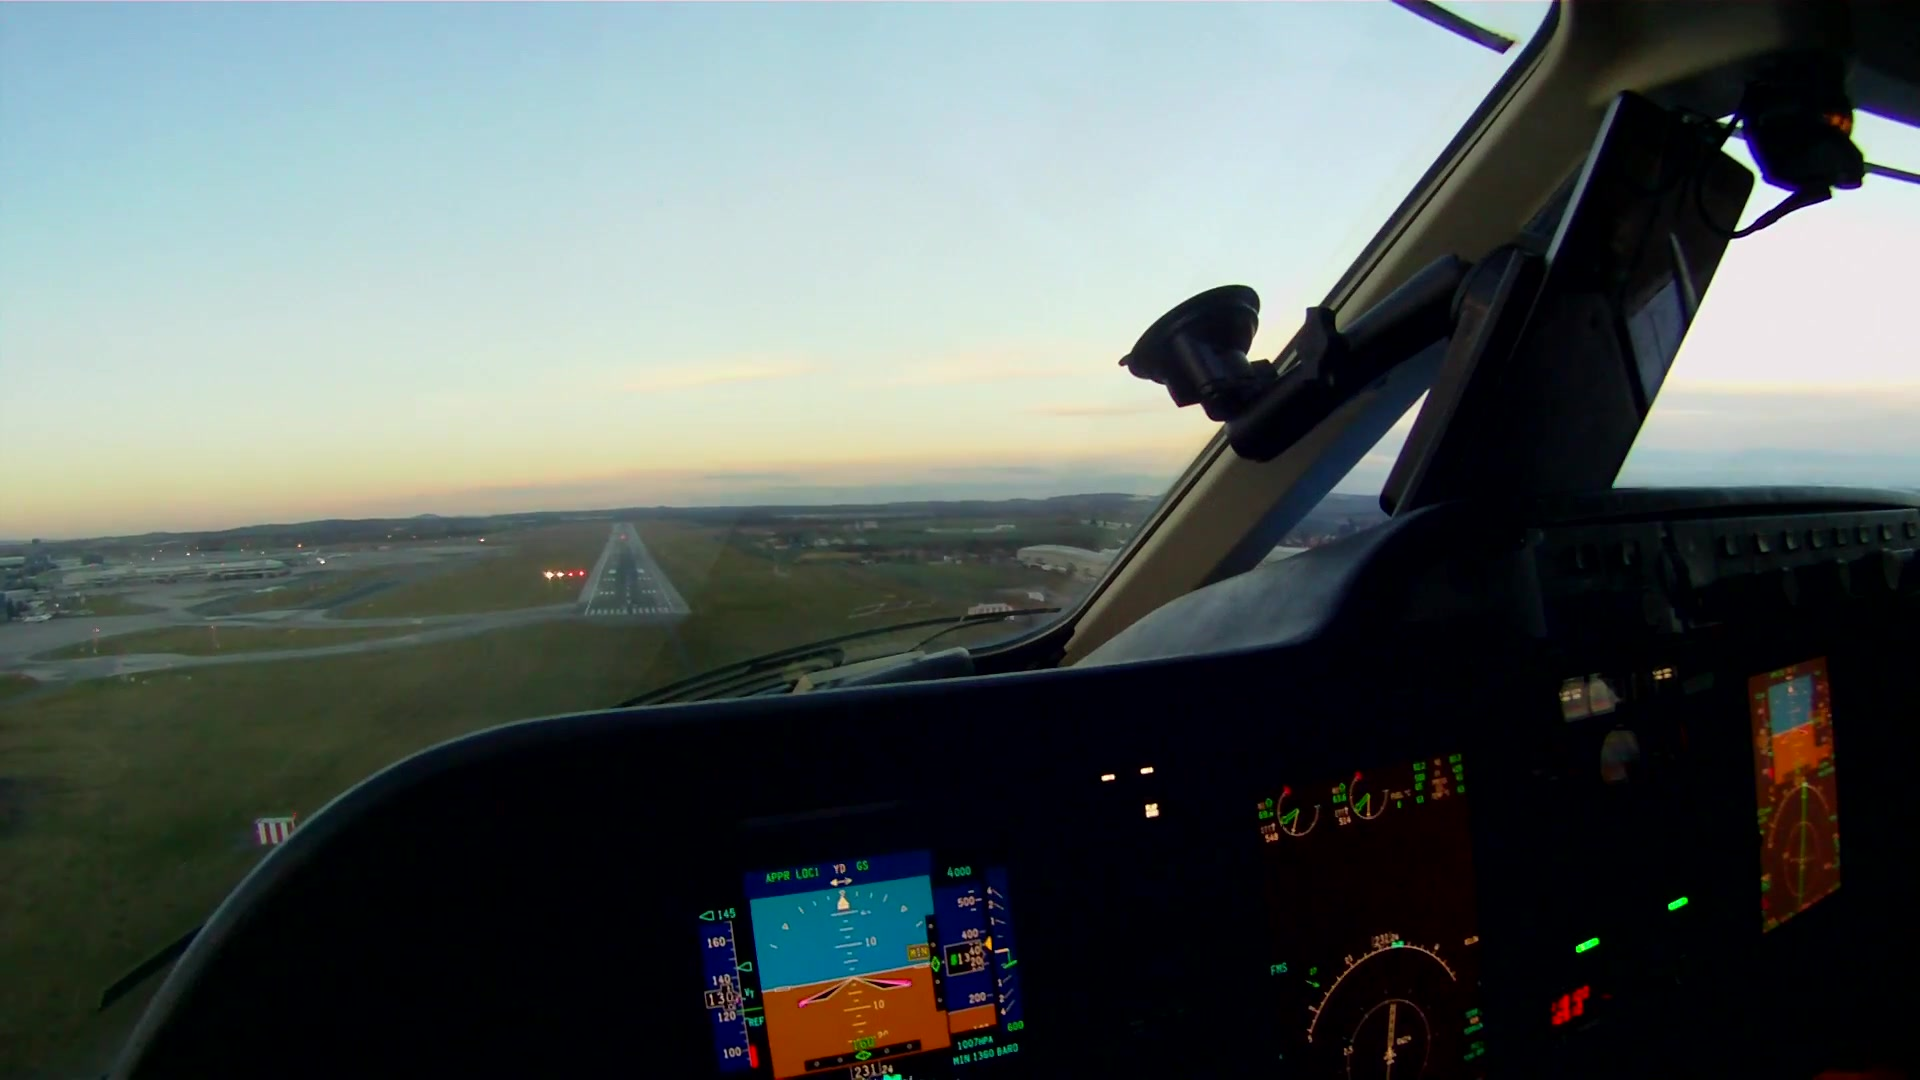entrance: (588, 607, 678, 615)
runway: (574, 520, 690, 622)
